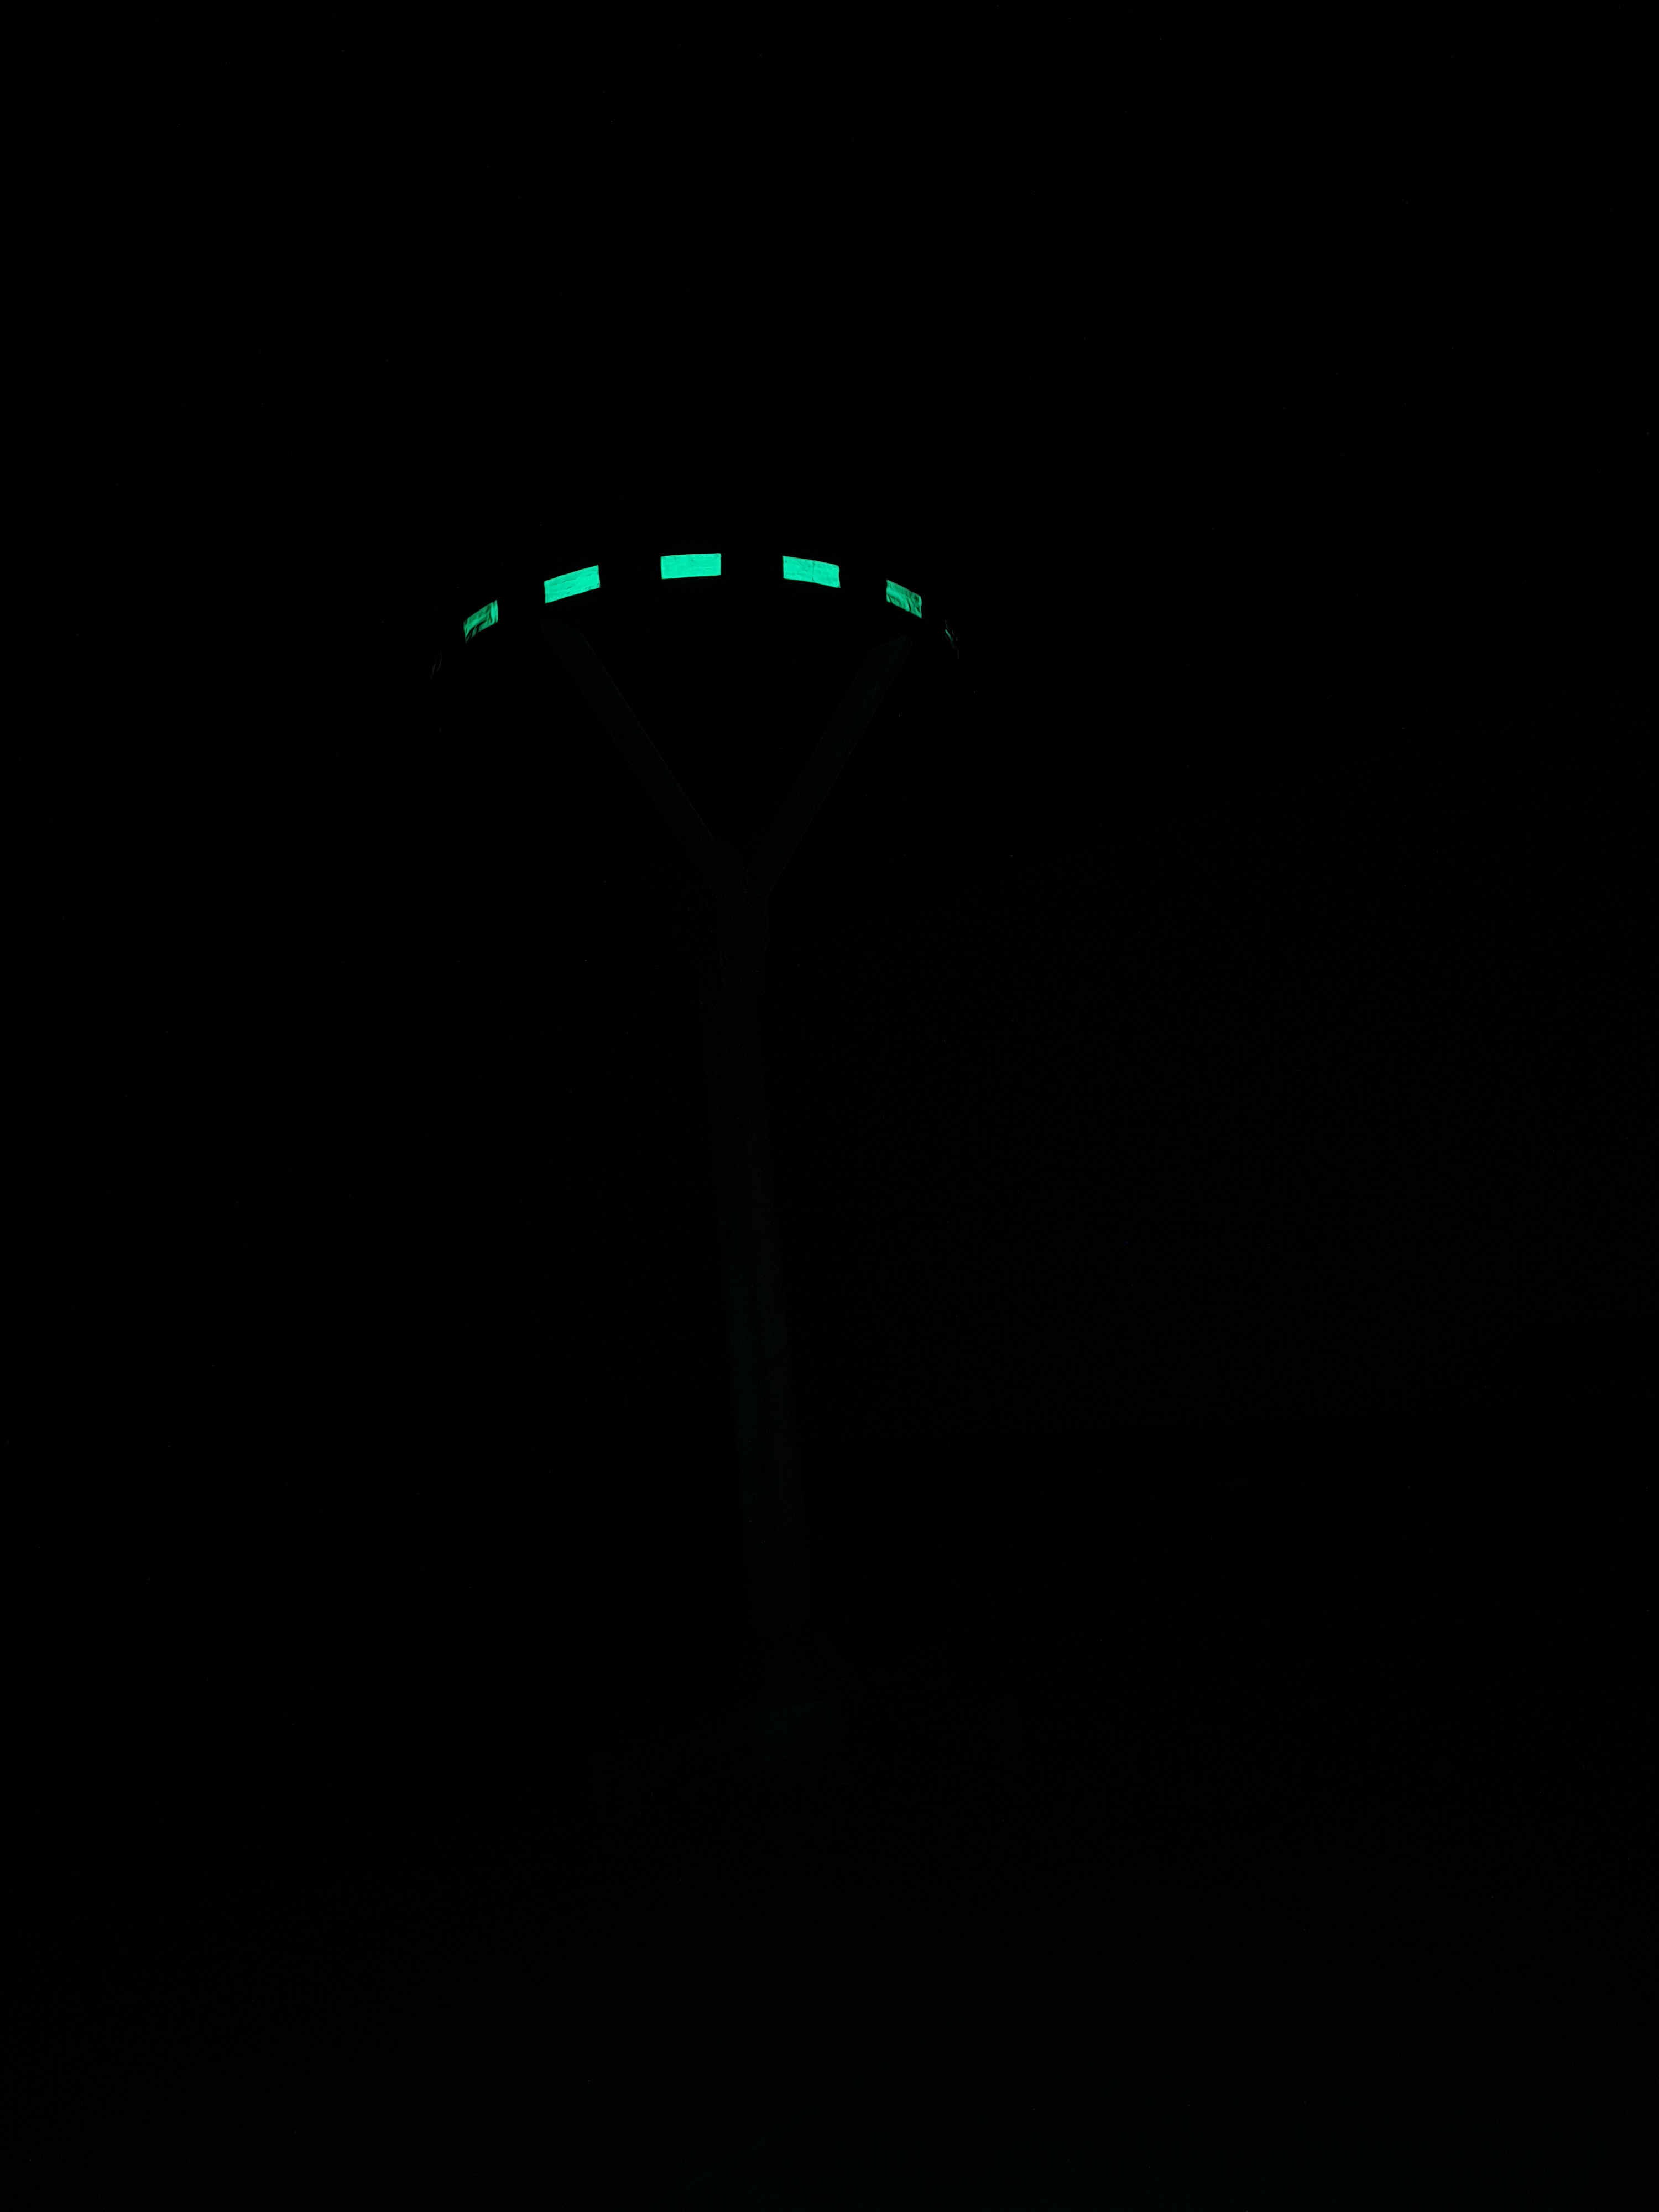hoop: (460, 549, 924, 637)
